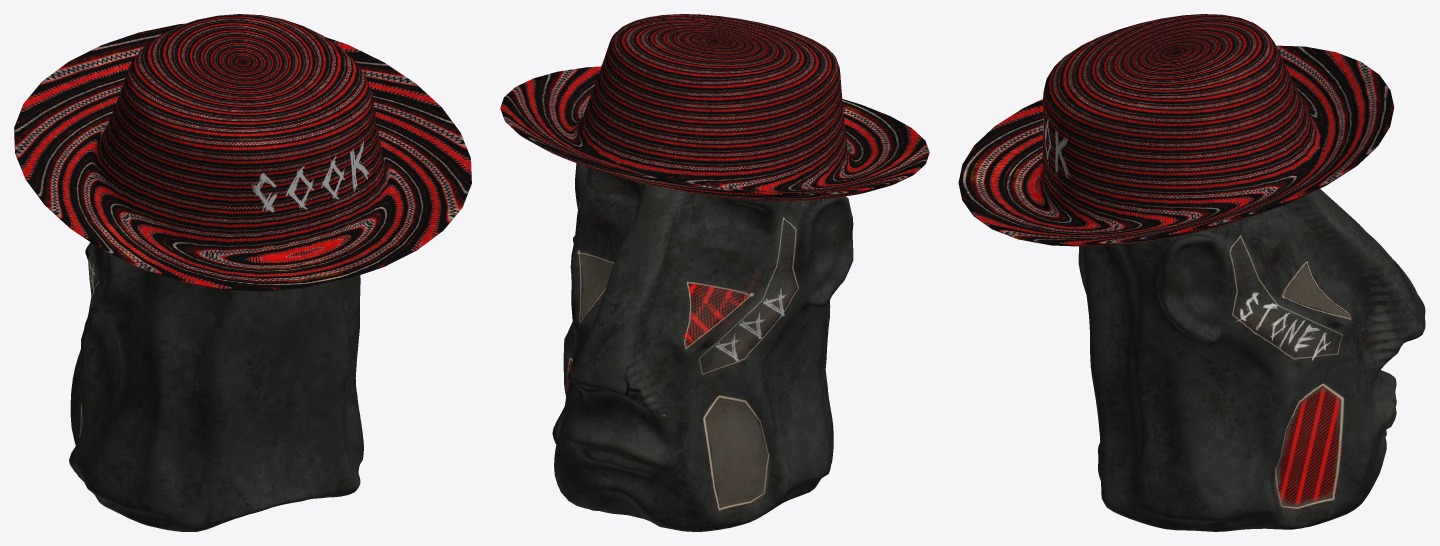
File: head.glb
3 views of the same model, side by side, from view 1: azimuth 30°, elevation 25°; view 2: azimuth 150°, elevation 25°; view 3: azimuth 270°, elevation 25° (orthographic). The views are drawn at different scales.
Parts seen in each view (by area): view 1: Hat, Retopo_Cube; view 2: Retopo_Cube, Hat; view 3: Retopo_Cube, Hat.
Part boxes in pixels (x1,y1,x2,y2): Hat: (14,14,471,291); Retopo_Cube: (69,242,363,531); Retopo_Cube: (552,163,853,531); Hat: (500,14,929,201); Retopo_Cube: (1078,189,1425,531); Hat: (958,14,1394,246).
Size of the model in its own units: 1.73 by 1.91 by 1.81.
Materials: 2 (2 with a texture image).
